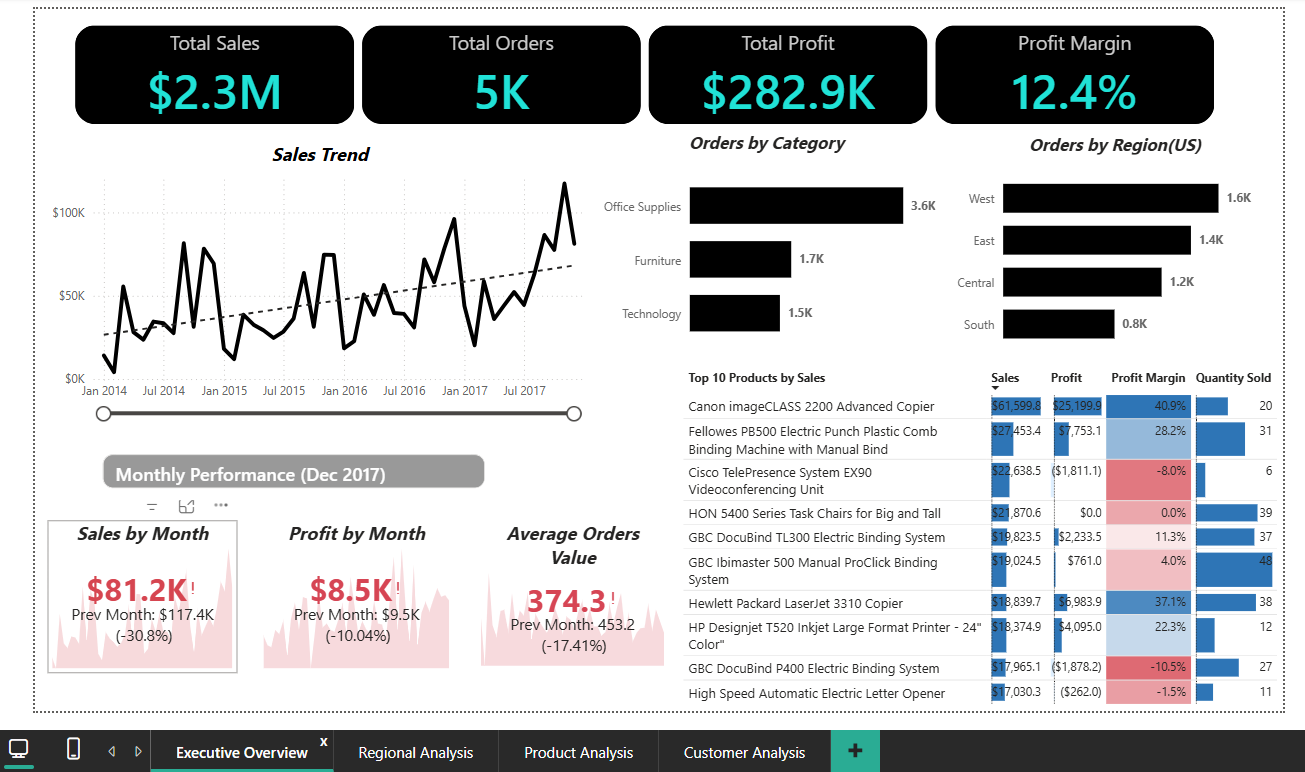

What the dashboard file says about the page in this screenshot:
{"tool":"powerbi","page":{"name":"Executive Overview","canvas":[1280,720],"ordinal":0},"visuals":[{"type":"cardVisual","fields":{"Data":["MeasuresTable.Total Sales","MeasuresTable.Total Orders","MeasuresTable.Total Profit","MeasuresTable.Profit Margin"]},"box":[64,0,1166,150],"z":0},{"type":"lineChart","title":"Sales Trend","fields":{"Category":["Date.Date.Variation.Date Hierarchy.Year","Date.Date.Variation.Date Hierarchy.Quarter","Date.Date.Variation.Date Hierarchy.Month","Date.Date.Variation.Date Hierarchy.Day"],"Y":["MeasuresTable.Total Sales"]},"box":[54.8,135.6,558.3,290],"z":1000},{"type":"shape","title":"Left Nav Background","box":[0,0,45,719.6],"z":2000},{"type":"pivotTable","fields":{"Rows":["Products.Product Name"],"Values":["MeasuresTable.Total Sales","MeasuresTable.Total Profit","MeasuresTable.Profit Margin","MeasuresTable.Quantity Sold"]},"box":[708.3,399.6,571.7,310],"z":3000},{"type":"barChart","title":"Orders by Category","fields":{"Category":["Products.Category"],"Y":["MeasuresTable.Total Orders"]},"box":[613,150.8,335.6,234.7],"z":4000},{"type":"barChart","title":"Orders by Region(US)","fields":{"Category":["Orders.region"],"Y":["MeasuresTable.Total Orders"]},"box":[937.2,150.8,342.8,234.7],"z":5000},{"type":"kpi","title":"Sales by Month","fields":{"Goal":["MeasuresTable.Previous Month Sales"],"Indicator":["MeasuresTable.Total Sales"],"TrendLine":["Date.Start of Month"]},"box":[54,524,194,158],"z":6000},{"type":"kpi","title":"Orders by Month","fields":{"Goal":["MeasuresTable.Previous Month Orders"],"Indicator":["MeasuresTable.Total Orders"],"TrendLine":["Date.Start of Month"]},"box":[266,526,200,158],"z":7000},{"type":"kpi","title":"Average Orders Value ","fields":{"Goal":["MeasuresTable.Previous Month Average Order Value"],"Indicator":["MeasuresTable.Average Order Value"],"TrendLine":["Date.Start of Month"]},"box":[492,526,198,156],"z":8000},{"type":"cardVisual","fields":{"Data":["MeasuresTable.Current Month Title"]},"box":[52,440,426,64],"z":9000}]}

Visuals, with their boxes on the page's 1280x720 design canvas (x1, y1, x2, y2). These are canvas units, not pixel positions in the 1305x772 screenshot, which may show the page scaled, cropped or inside an application window:
cardVisual - MeasuresTable.Total Sales x MeasuresTable.Total Orders: <bbox>64, 0, 1230, 150</bbox>
"Sales Trend" lineChart: <bbox>55, 136, 613, 426</bbox>
"Left Nav Background" shape: <bbox>0, 0, 45, 720</bbox>
pivotTable - Products.Product Name x MeasuresTable.Total Sales: <bbox>708, 400, 1280, 710</bbox>
"Orders by Category" barChart: <bbox>613, 151, 949, 386</bbox>
"Orders by Region(US)" barChart: <bbox>937, 151, 1280, 386</bbox>
"Sales by Month" kpi: <bbox>54, 524, 248, 682</bbox>
"Orders by Month" kpi: <bbox>266, 526, 466, 684</bbox>
"Average Orders Value " kpi: <bbox>492, 526, 690, 682</bbox>
cardVisual - MeasuresTable.Current Month Title: <bbox>52, 440, 478, 504</bbox>
